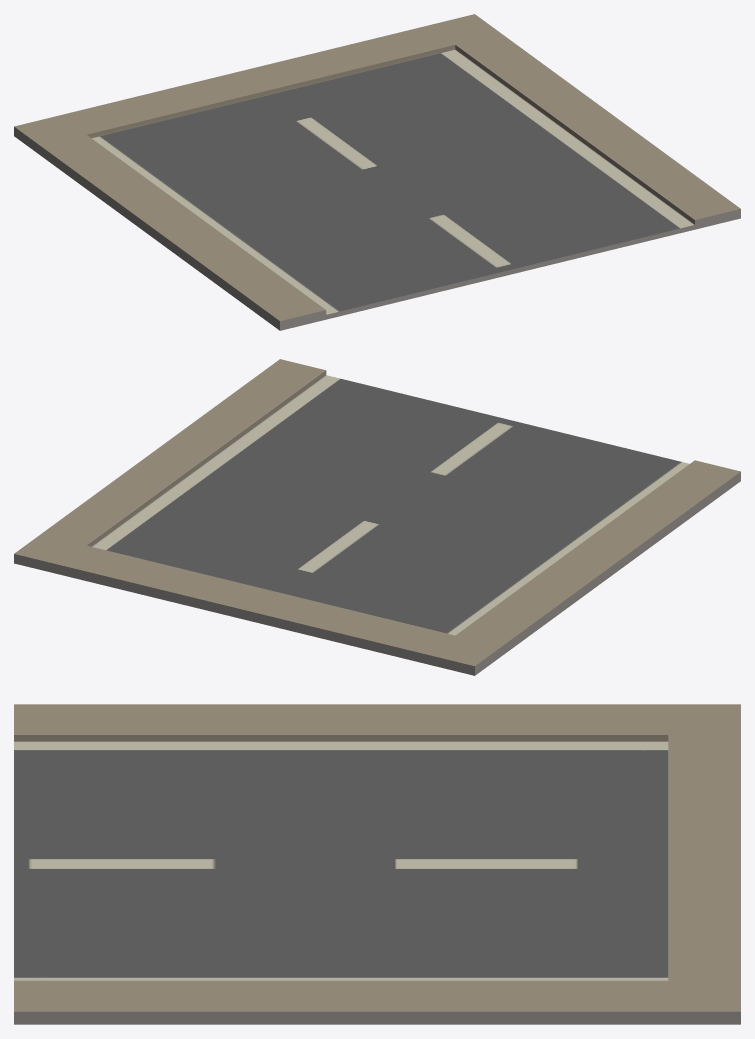
Rendered from road_end_coloured.glb.
The picture shows the model from 3 angles, top to bottom: view 1: azimuth 30°, elevation 25°; view 2: azimuth 150°, elevation 25°; view 3: azimuth 270°, elevation 25°; orthographic projection. The views are drawn at different scales.
Parts seen in each view (by area): view 1: Cube; view 2: Cube; view 3: Cube.
Boxes of the visible parts, x1,y1,x2,y2 form: Cube: (14,14,740,330); Cube: (14,359,740,675); Cube: (14,704,740,1024).
Bounding box in the file's own units: 15 × 0.3 × 15.
1 material, 1 textured.
